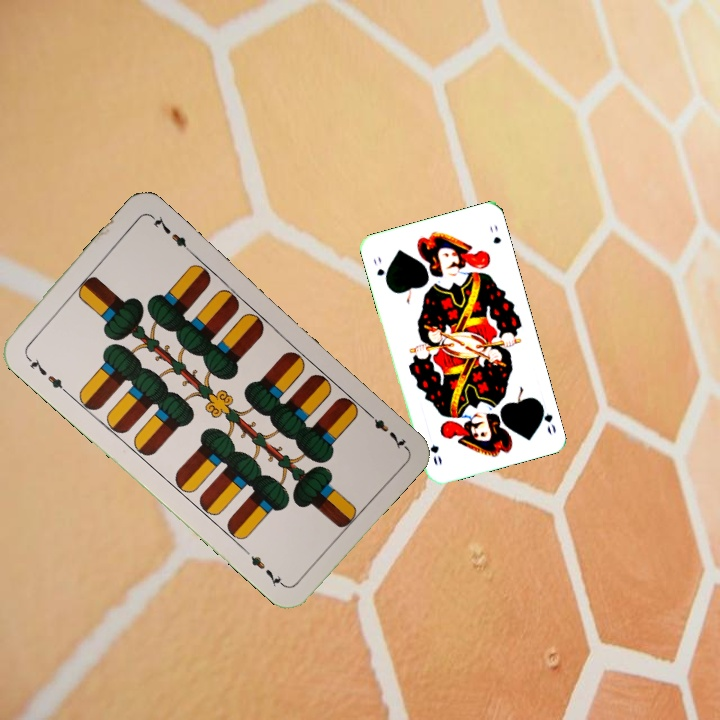E7: (361, 406, 409, 452), (21, 351, 70, 396)
GO: (536, 398, 559, 437), (369, 253, 390, 287)
